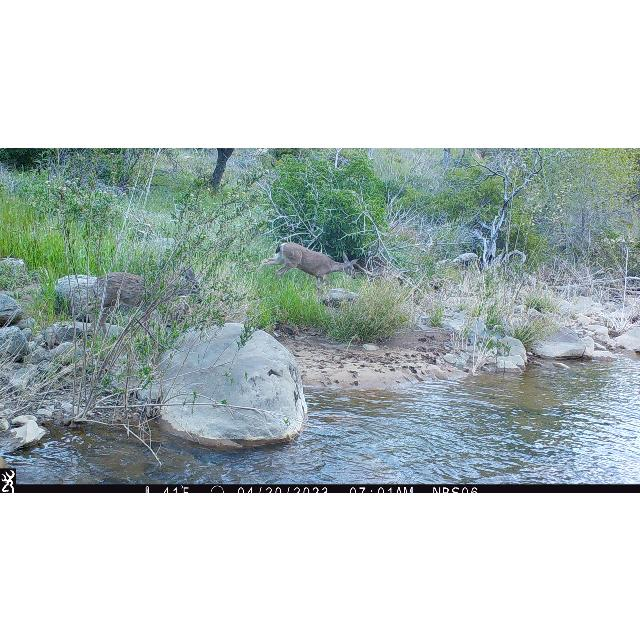animals: (88, 266, 205, 336), (260, 240, 360, 288)
